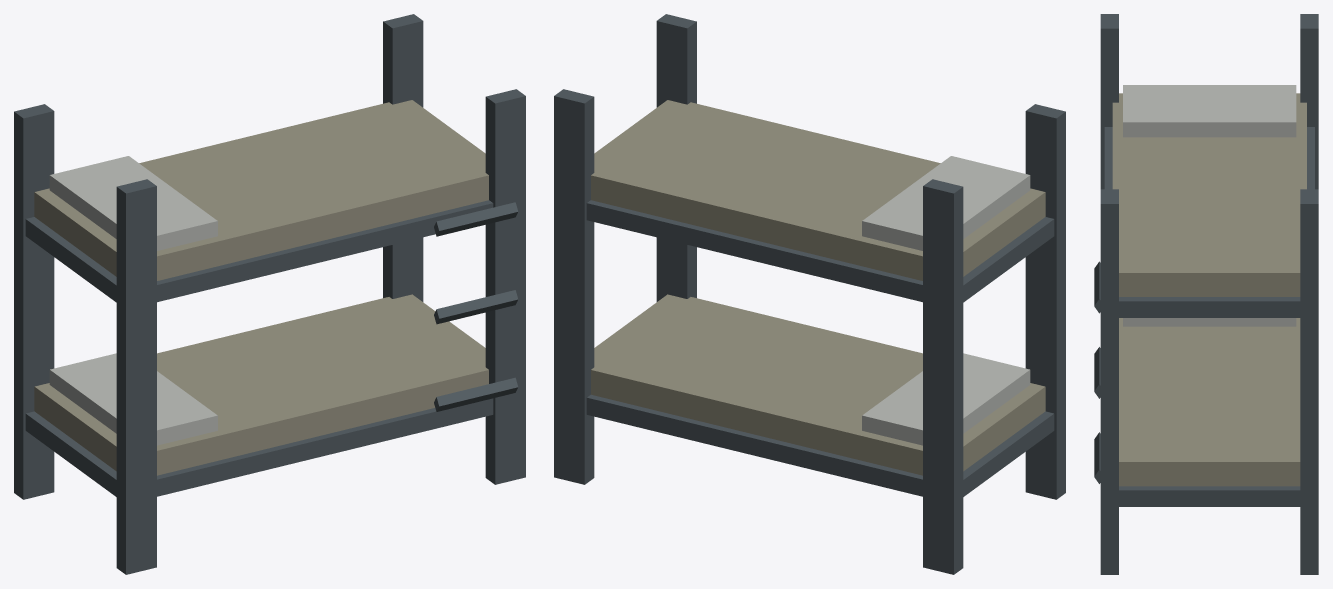
The model's file is bunk_bed.glb.
The picture shows the model from 3 angles, left to right: view 1: azimuth 30°, elevation 25°; view 2: azimuth 150°, elevation 25°; view 3: azimuth 270°, elevation 25°; orthographic projection. The views are drawn at different scales.
Visible parts, largest first — view 1: bunk_bed; view 2: bunk_bed; view 3: bunk_bed.
Part boxes in pixels (left/top/right/bottom): bunk_bed: left=14, top=14, right=525, bottom=574; bunk_bed: left=554, top=14, right=1065, bottom=574; bunk_bed: left=1094, top=14, right=1318, bottom=574.
Bounding box in the file's own units: 1.92 × 1.75 × 0.96.
